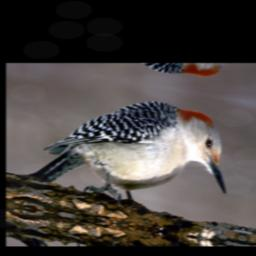Woodpecker: (37, 82, 237, 224)
